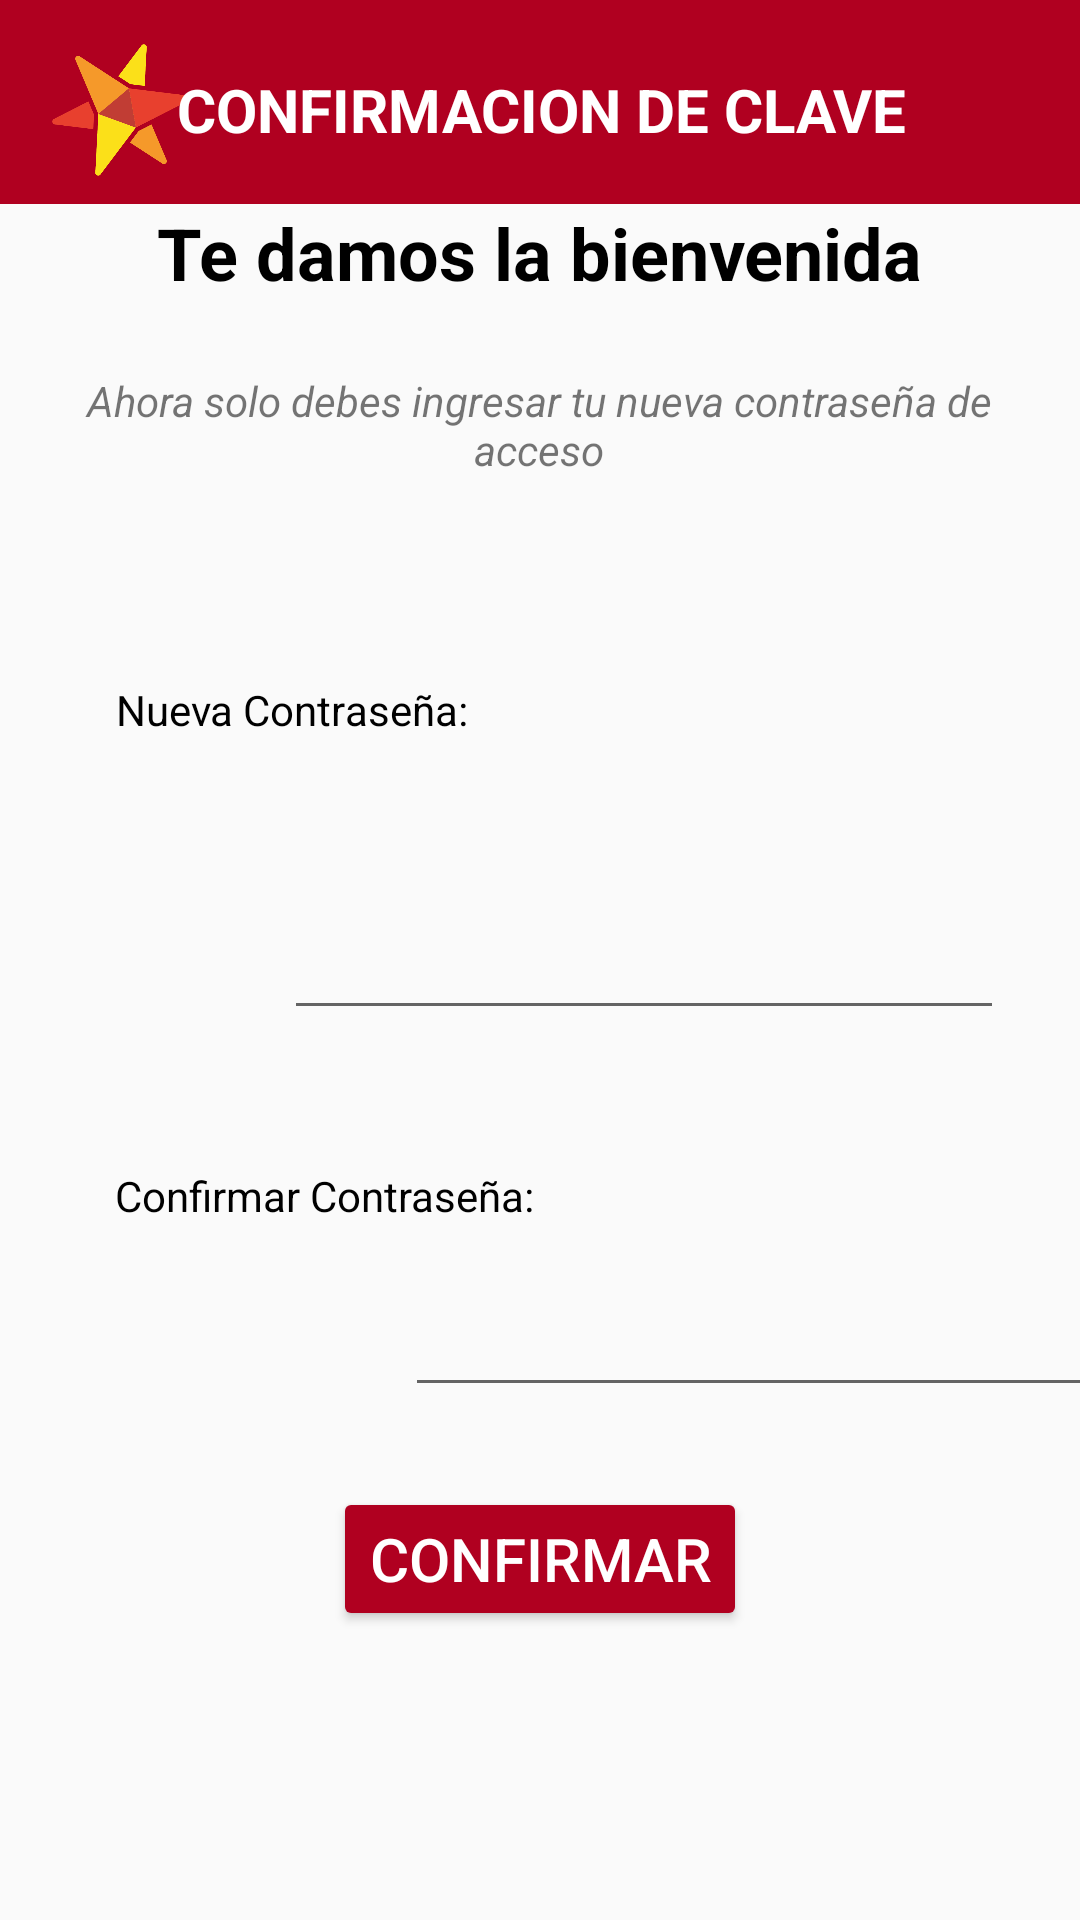

Icons on this 1080 × 1920 Android screen, each with the point to tap as (x,y):
starbank favicon: (127,110)
